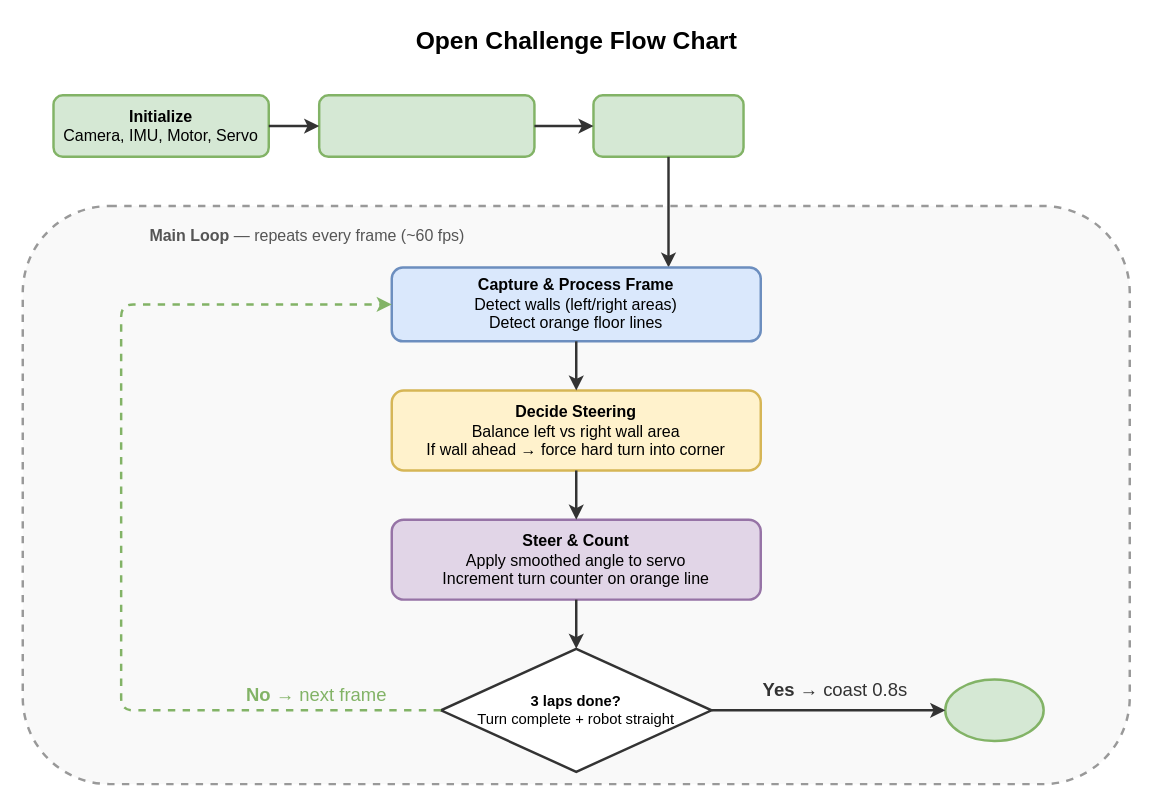
Some shapes in this 1151 by 806 pixel diagram are drawn without their labels. Here are the shapes that lost their labels. From the top down, the centre of each, then its label:
At point 426,125: "Wait for Start Button press + IMU Reading".
At point 668,125: "Drive Forward Full speed".
At point 993,710: "Stop".
